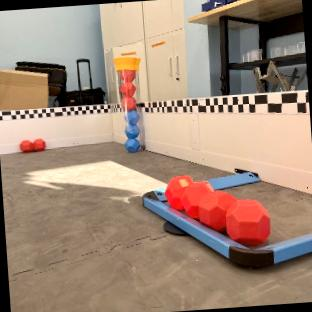V5_BLUE: (125, 110, 139, 151)
V5_RED: (165, 175, 271, 247), (119, 68, 136, 110), (19, 138, 45, 152)
